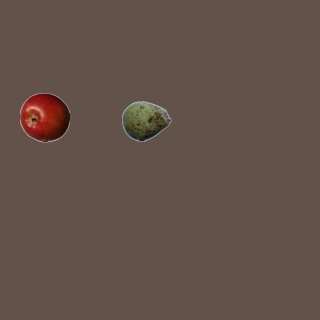Apple Braeburn: (19, 92, 69, 142)
Pear Stone: (121, 96, 171, 146)
